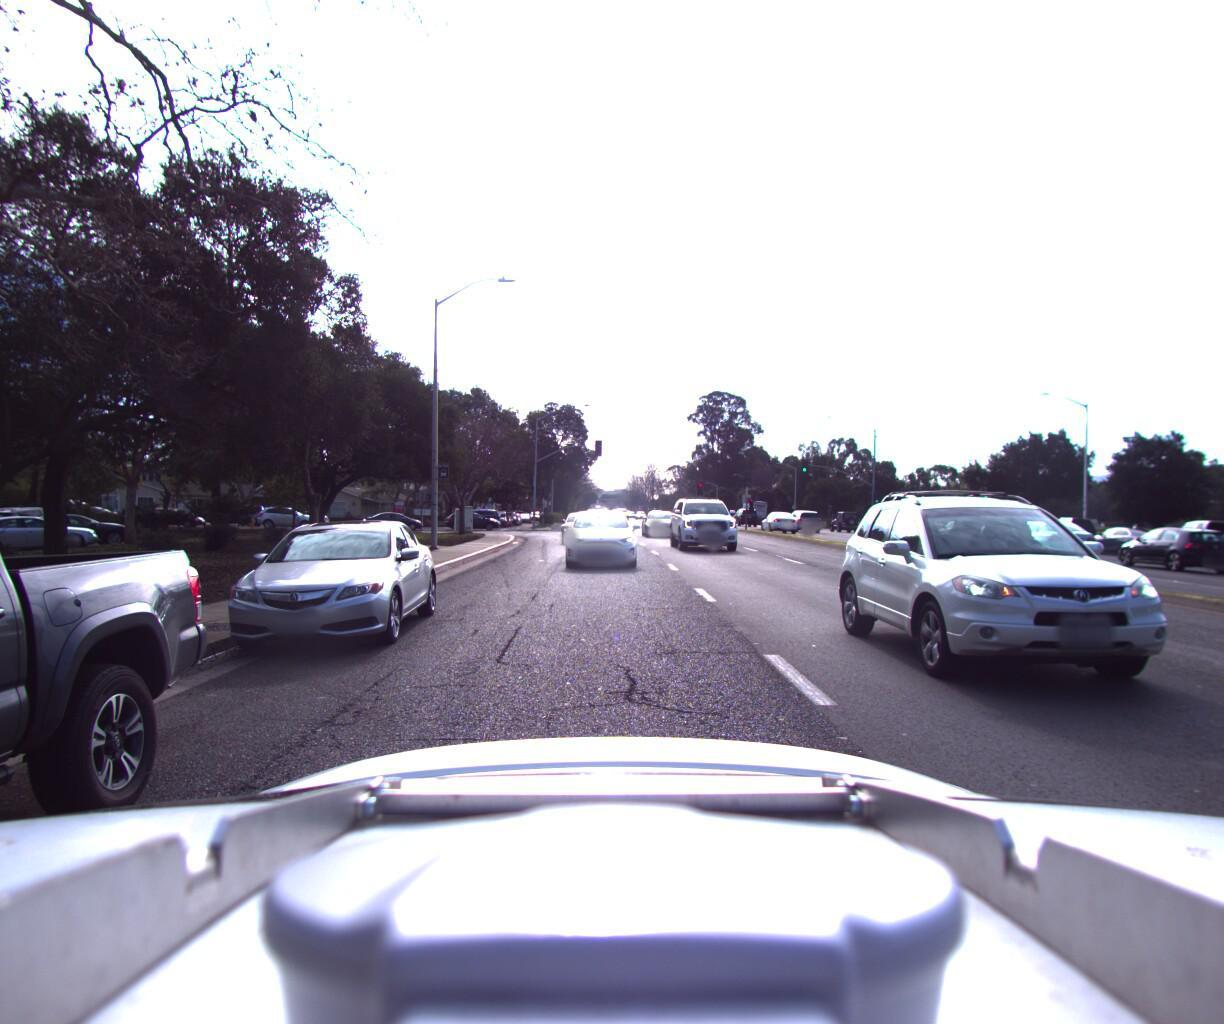car: (855, 469, 1224, 777), (199, 511, 453, 675), (1095, 524, 1216, 573), (558, 505, 641, 575), (669, 492, 748, 557), (1139, 513, 1224, 570), (1012, 513, 1100, 552), (255, 500, 325, 530), (645, 507, 688, 537), (365, 509, 426, 530), (446, 509, 503, 529), (755, 507, 798, 532), (782, 508, 821, 531), (823, 508, 856, 530), (0, 489, 10, 525)
